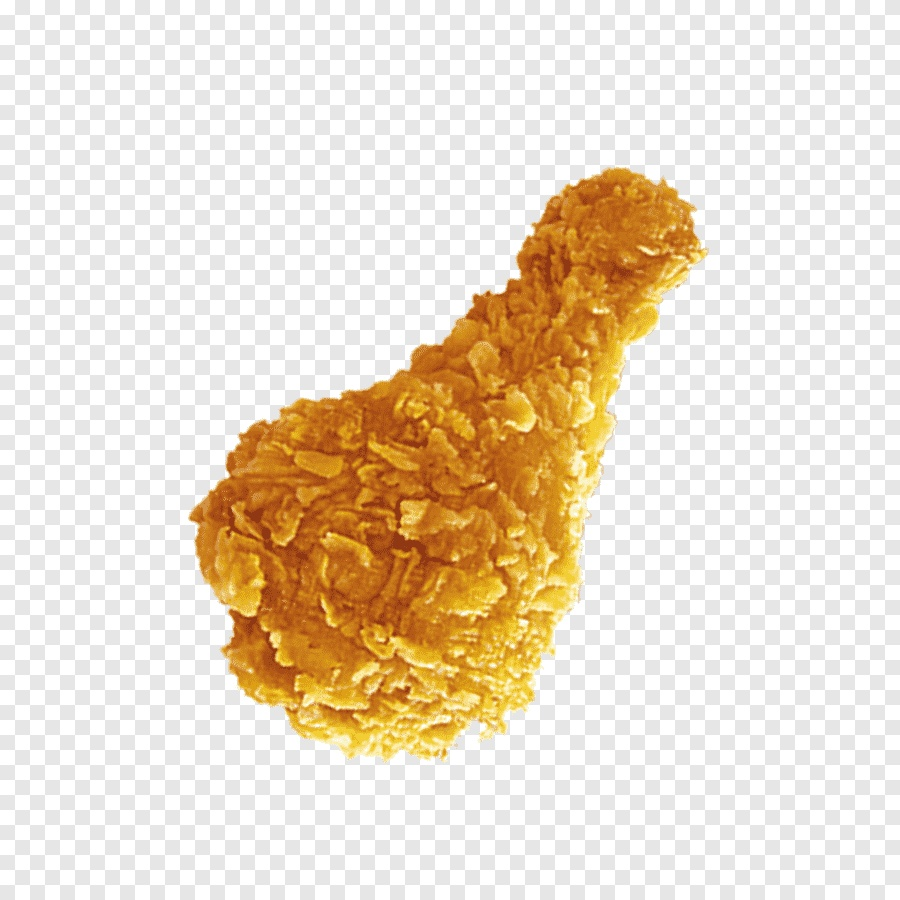ayam_goreng: (172, 138, 737, 757)
